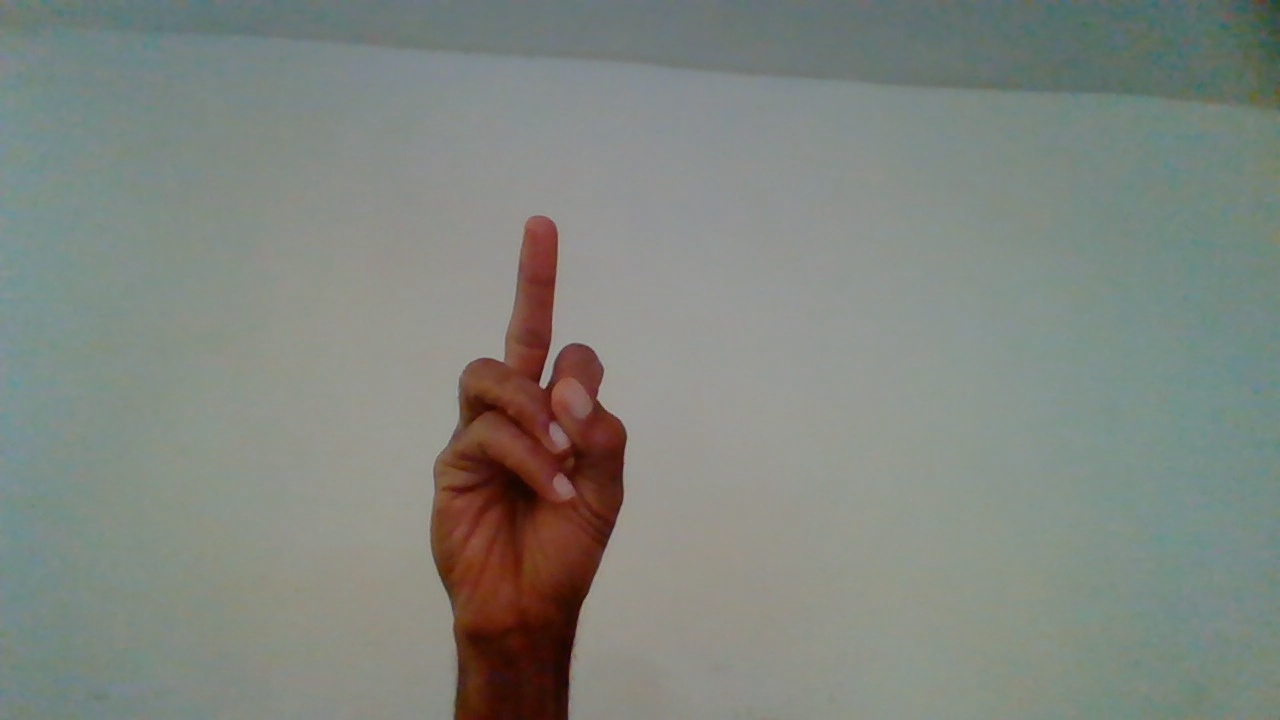he: (423, 226, 631, 718)
